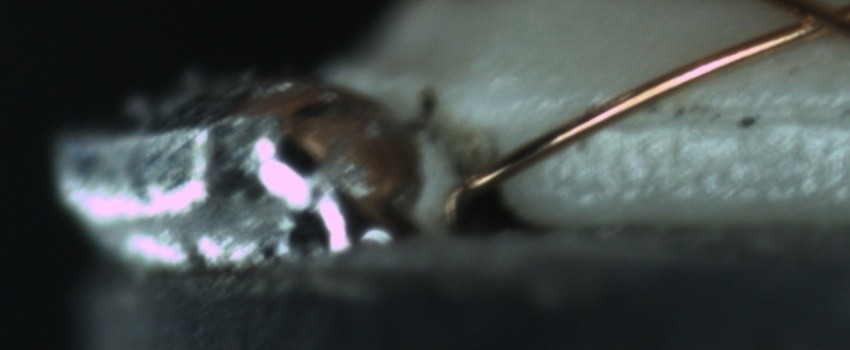CL: (768, 1, 849, 45)
DL: (563, 82, 847, 148)
